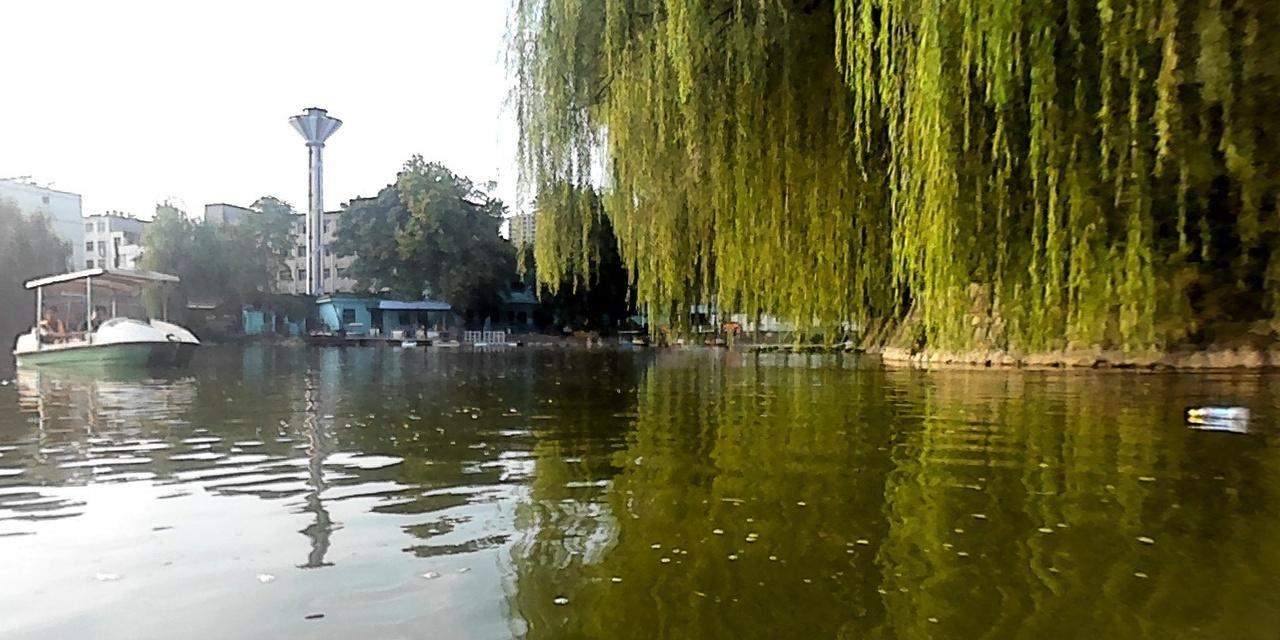bottle: (1184, 403, 1251, 422)
